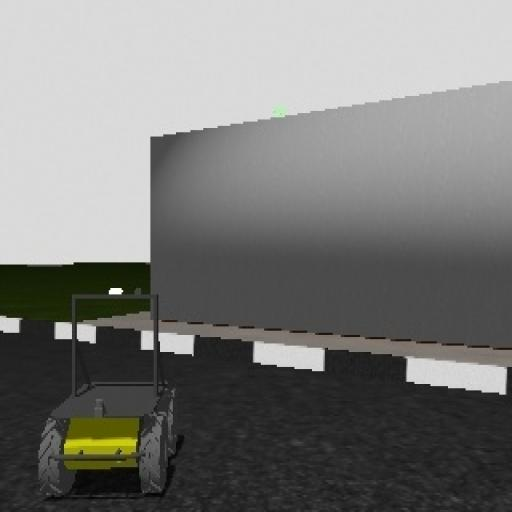huskya200: (38, 281, 182, 491)
